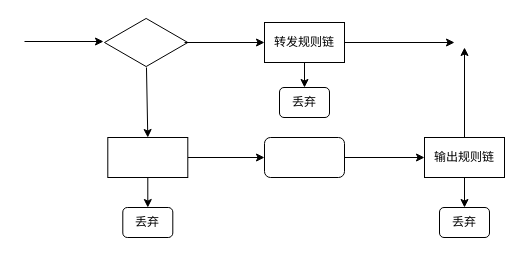
Some shapes in this 522 by 255 pixel diagram are drawn without their labels. Here are the shapes that lost their labels. From the top down, the centre of each, then its label:
At (146,42): "路由".
At (147,157): "输入规则链".
At (304,157): "本地处理".
